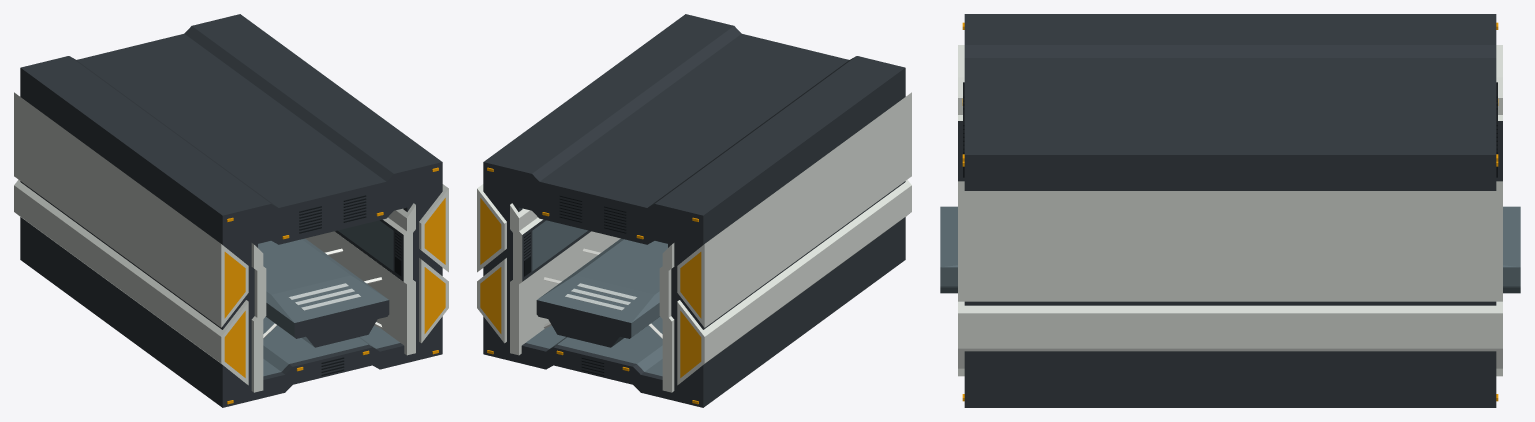
File: prop17.FBX
The picture shows the model from 3 angles, left to right: view 1: azimuth 30°, elevation 25°; view 2: azimuth 150°, elevation 25°; view 3: azimuth 270°, elevation 25°; orthographic projection. The views are drawn at different scales.
Parts seen in each view (by area): view 1: prop17; view 2: prop17; view 3: prop17.
Part boxes in pixels (x1,y1,x2,y2): prop17: (14,14,448,407); prop17: (477,14,911,407); prop17: (940,14,1520,407).
Size of the model in its own units: 62.95 by 50.83 by 106.
